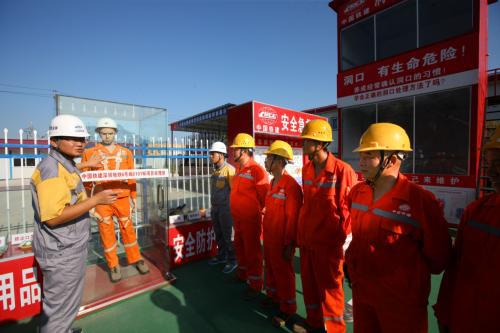helmet: (350, 116, 413, 188), (45, 113, 90, 158), (297, 116, 335, 165), (265, 138, 294, 176), (232, 131, 257, 167), (93, 115, 121, 144), (207, 138, 230, 167)
